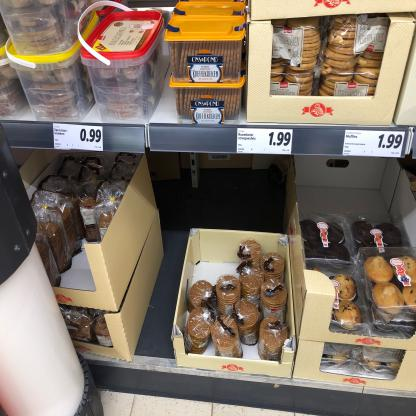prtg: (343, 131, 406, 158), (237, 129, 294, 155), (54, 124, 104, 152)
